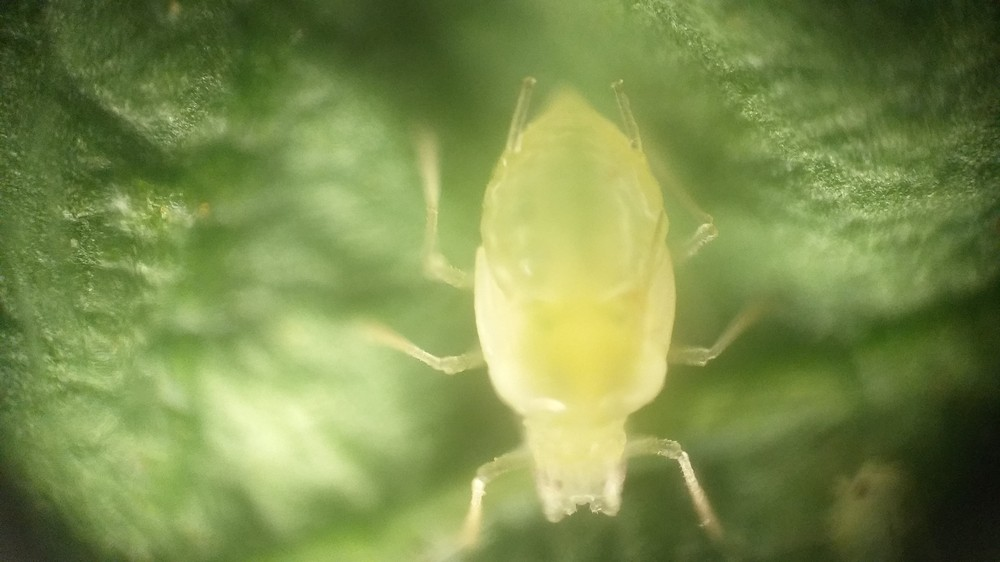Pulgon: (346, 69, 750, 548)
